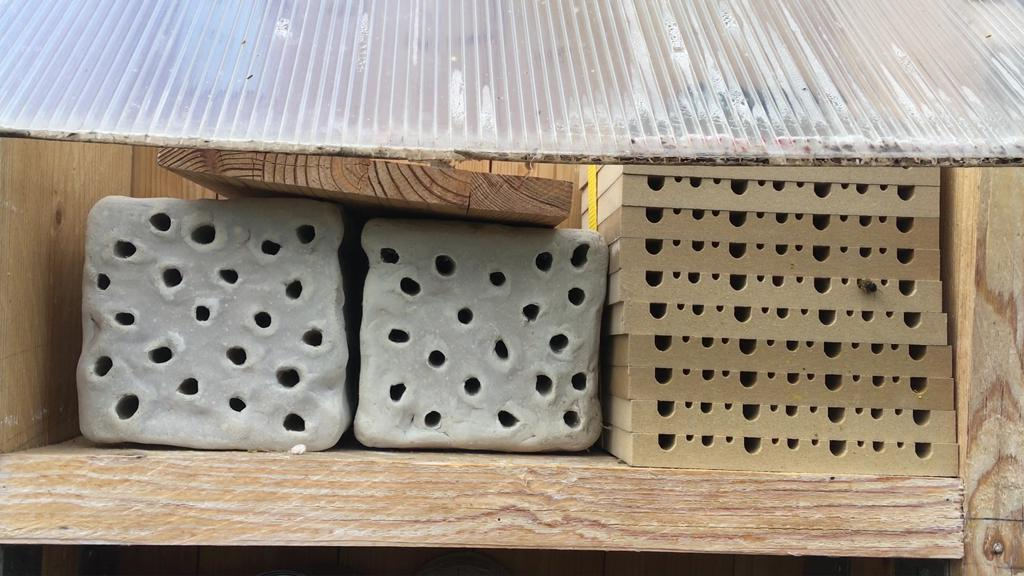bee: (850, 269, 880, 300)
